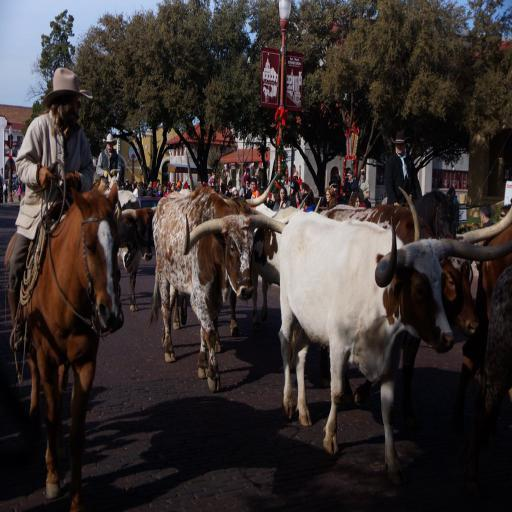horse: (4, 181, 124, 512), (404, 189, 456, 240)
